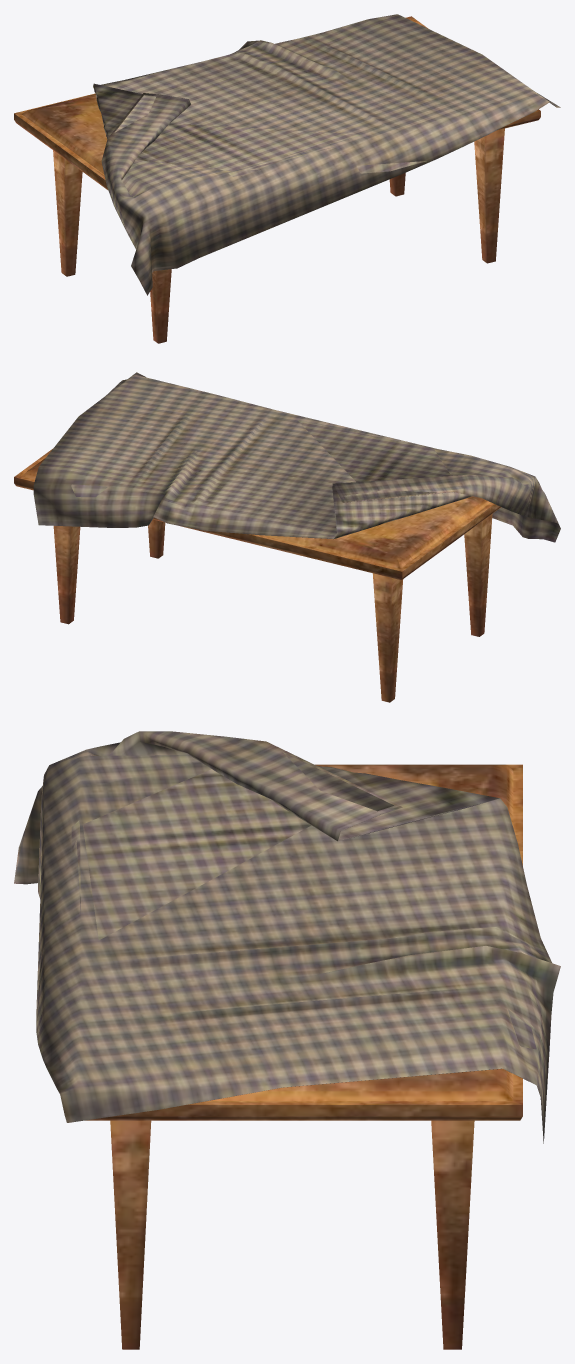
File: dining_table.glb
The picture shows the model from 3 angles, top to bottom: view 1: azimuth 30°, elevation 25°; view 2: azimuth 150°, elevation 25°; view 3: azimuth 270°, elevation 25°; orthographic projection. The views are drawn at different scales.
Visible parts, largest first — view 1: dining_table; view 2: dining_table; view 3: dining_table.
Part boxes in pixels (left/top/right/bottom): dining_table: left=14, top=14, right=560, bottom=343; dining_table: left=14, top=372, right=560, bottom=702; dining_table: left=14, top=731, right=560, bottom=1349.
Bounding box in the file's own units: 2.26 × 0.877 × 1.39.
Materials: 1 (1 with a texture image).
